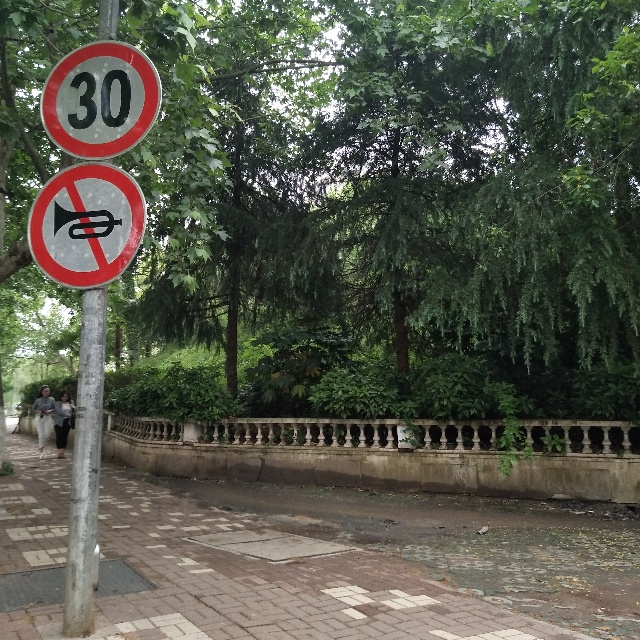nohonk: (32, 172, 138, 272)
